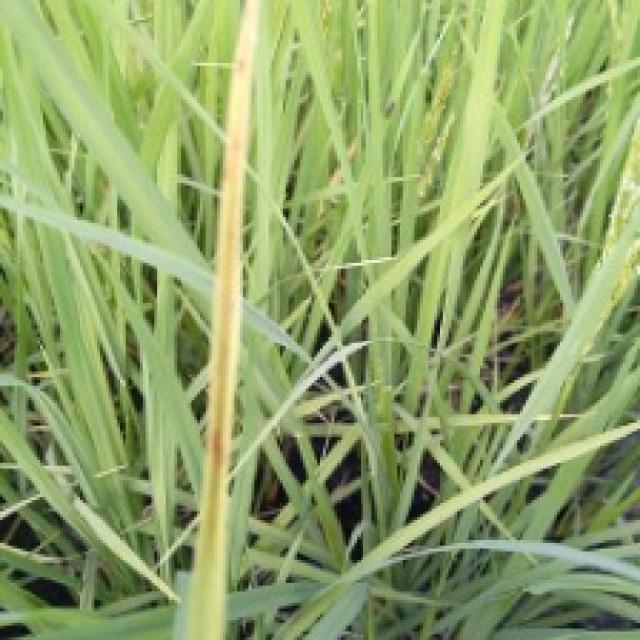Rice___Brown_Spot: (189, 0, 261, 637)
